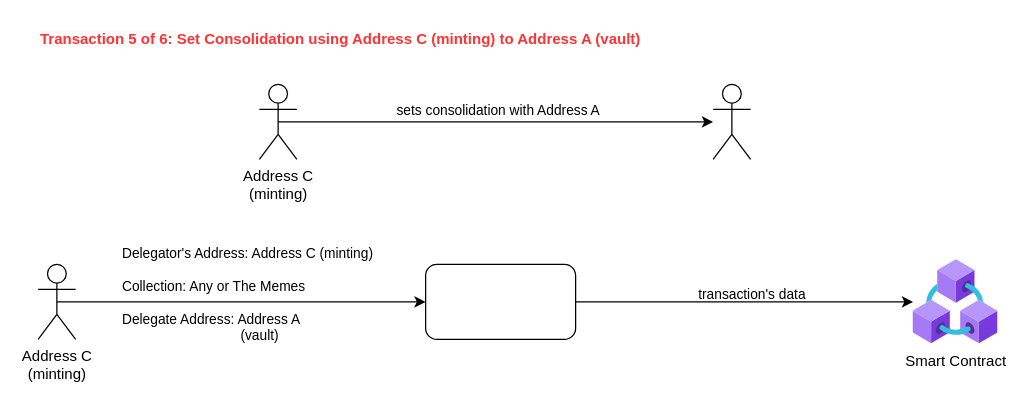
This 1028x405 diagram has some shape labels left out. Here are the shapes that lost their labels. From the top down, the centre of each, then its label:
At point 731,121: "Address A (vault)".
At point 500,301: "Register Delegation Address".
